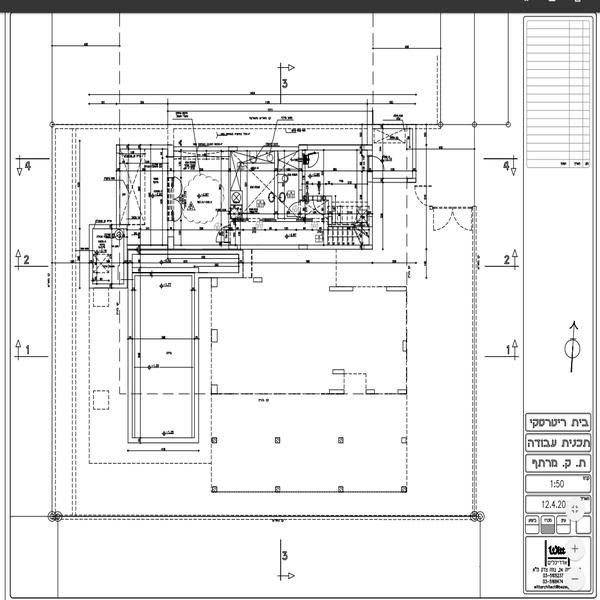door: (431, 206, 475, 238), (311, 188, 335, 220), (412, 180, 436, 207), (364, 152, 387, 174)
